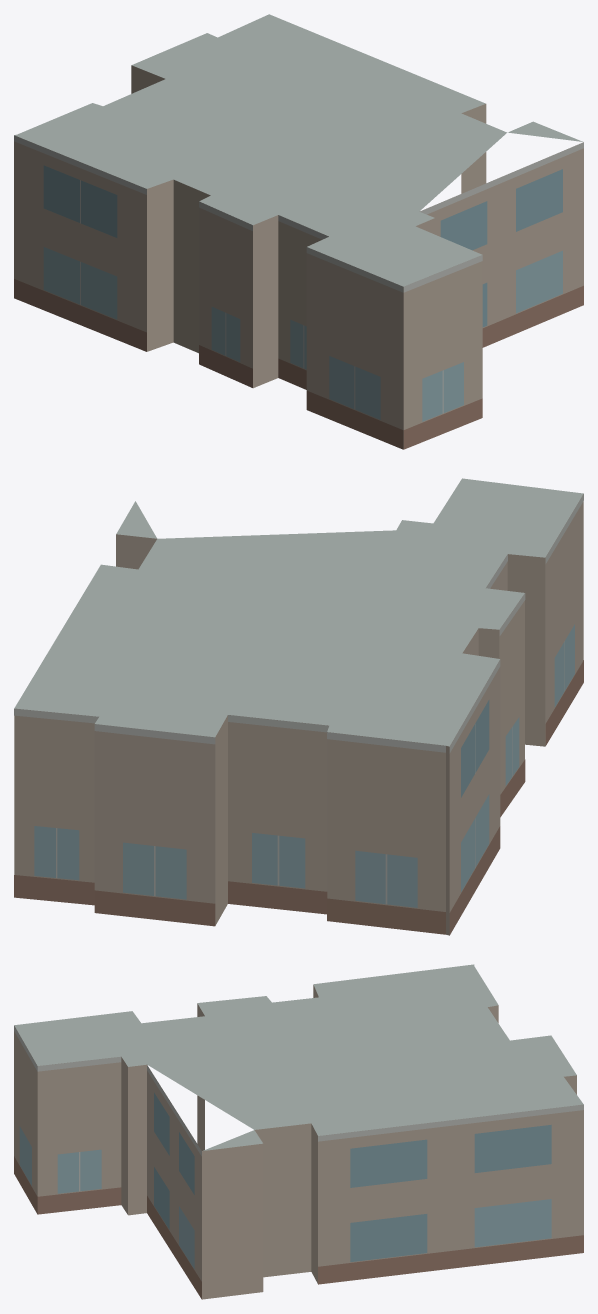
The model's file is survey-upis-32675951.glb.
The picture shows the model from 3 angles, top to bottom: view 1: azimuth 30°, elevation 25°; view 2: azimuth 150°, elevation 25°; view 3: azimuth 270°, elevation 25°; orthographic projection. The views are drawn at different scales.
Parts seen in each view (by area): view 1: survey-upis-32675951.tmp; view 2: survey-upis-32675951.tmp; view 3: survey-upis-32675951.tmp.
Part boxes in pixels (box(x1,y1,x2,y2)): survey-upis-32675951.tmp: box(14, 14, 583, 449); survey-upis-32675951.tmp: box(14, 478, 583, 935); survey-upis-32675951.tmp: box(14, 964, 583, 1299).
Size of the model in its own units: 17.55 by 6.5 by 22.62.
